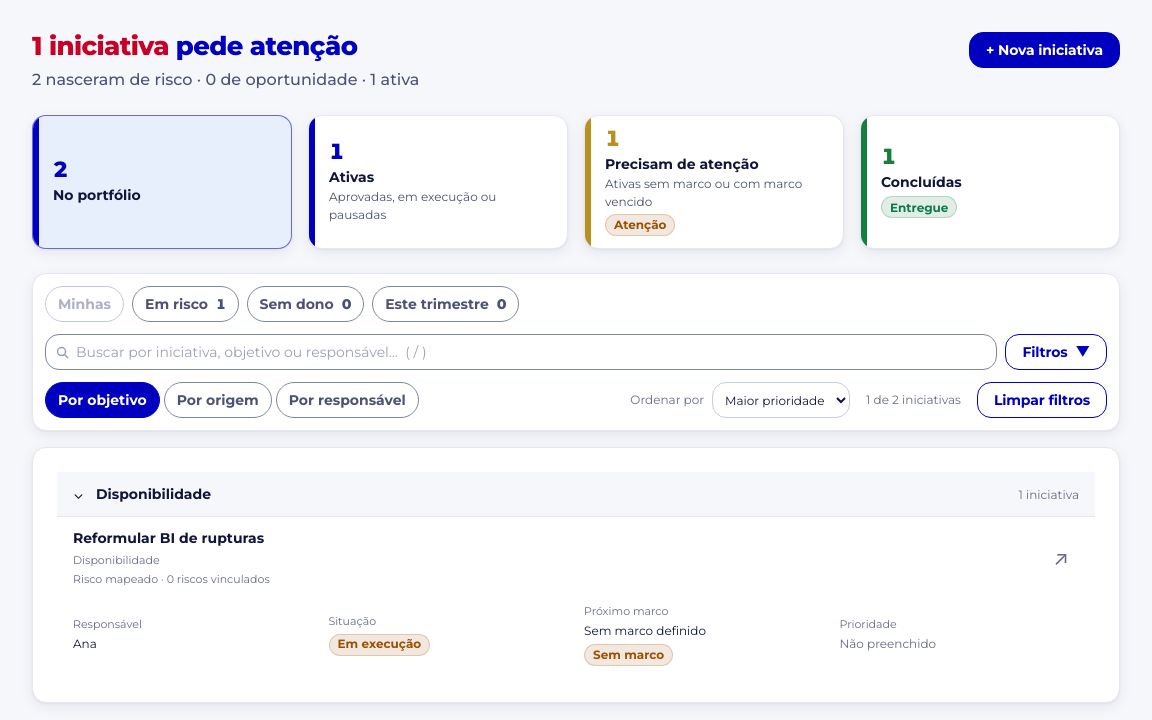
Test: busca respeita também o recorte vindo do painel
The width and height of the screenshot is (1152, 720).
Type "pedidos" into the field named "Buscar iniciativas".
click(521, 352); type("pedidos")  # box x1=45 y1=334 x2=998 y2=370
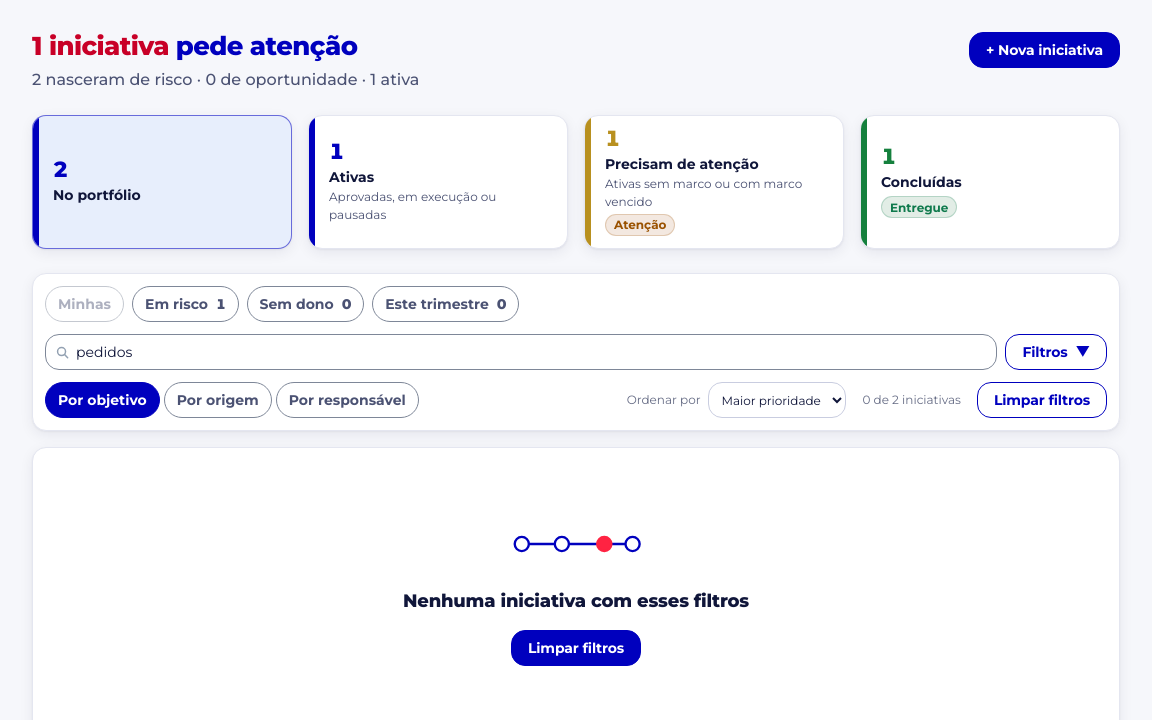
Expected: the text "Nenhuma iniciativa com esses filtros" is shown, x1=403 y1=588 x2=749 y2=614
